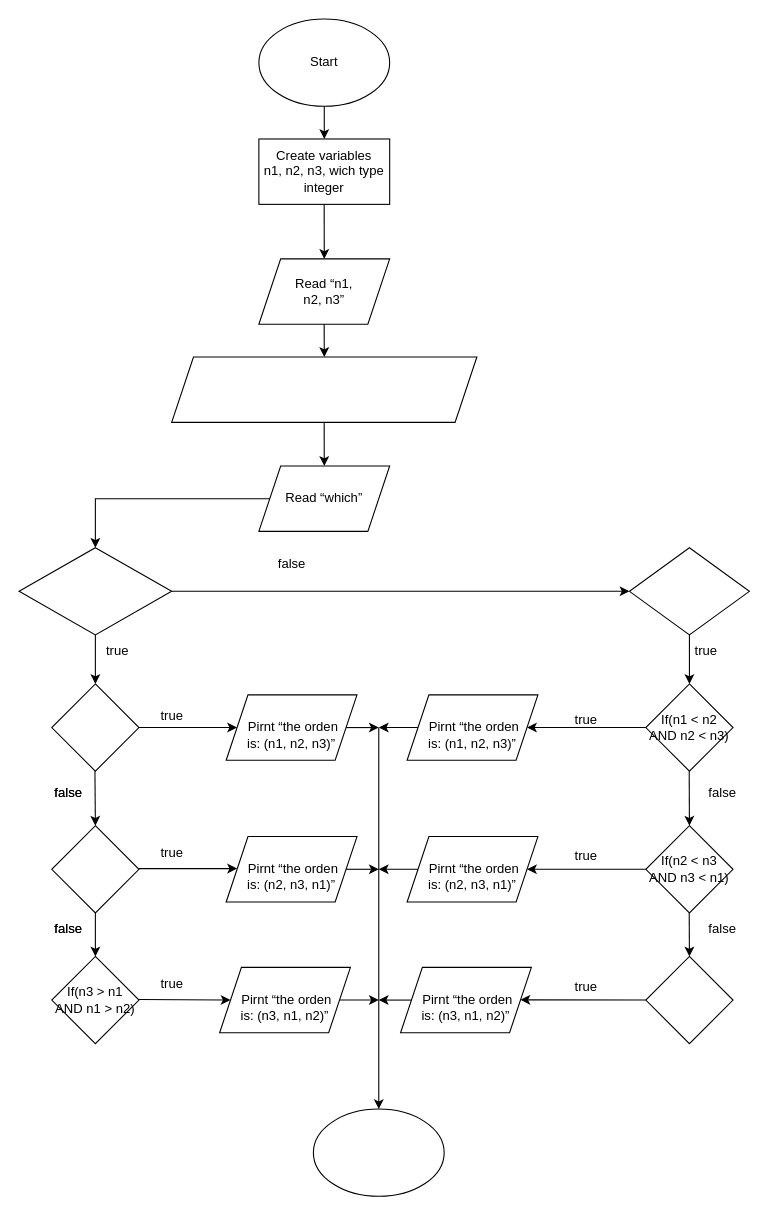
Some shapes in this 768 by 1215 pixel diagram are drawn without their labels. The shapes that lost their labels are listed below. From the top down, each one's centre as x and y in pixels, then its label:
At pixel 324 389: "Print “What kind of sort do you want? 1. Ascending 2. Descending ”".
At pixel 95 591: "If (which == 1 )".
At pixel 688 591: "If (which == 2 )".
At pixel 95 727: "If(n1 > n2 AND n2 > n3)".
At pixel 95 869: "If(n2 > n3 AND n3 > n1)".
At pixel 689 999: "If(n3 < n1 AND n1 < n2)".
At pixel 378 1152: "End".
